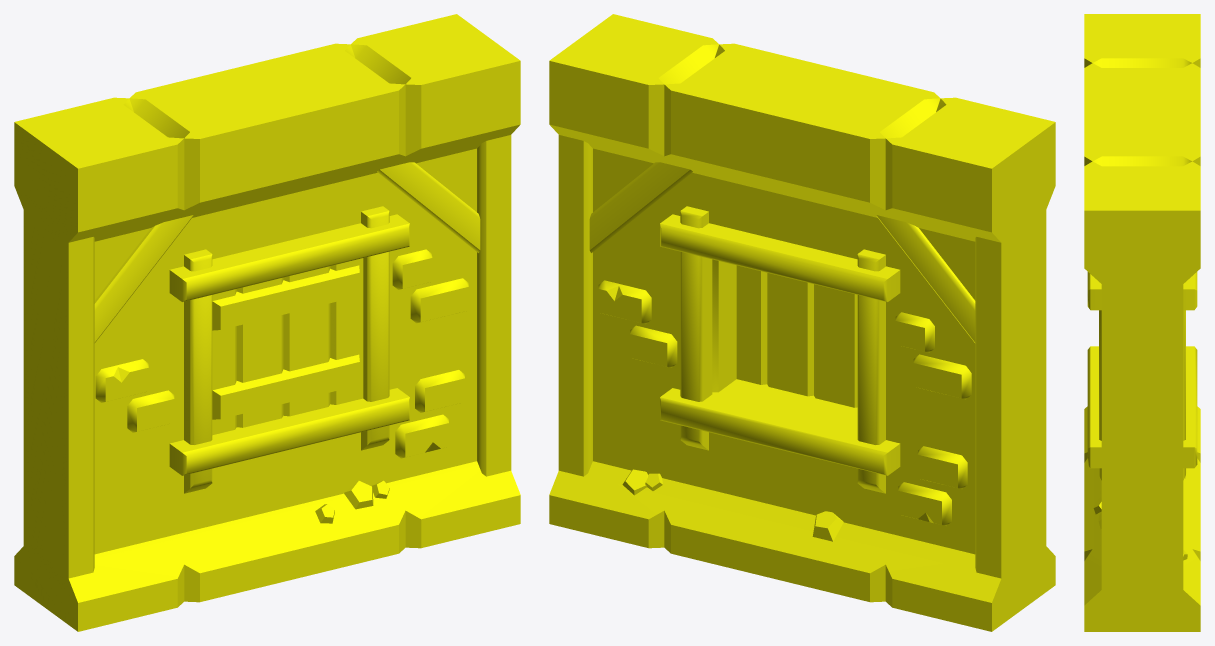
File: kaykit-wall-window-closed-scaffold.glb
3 views of the same model, side by side, from view 1: azimuth 30°, elevation 25°; view 2: azimuth 150°, elevation 25°; view 3: azimuth 270°, elevation 25° (orthographic). The views are drawn at different scales.
Visible parts, largest first — view 1: wall_window_closed_scaffold; view 2: wall_window_closed_scaffold; view 3: wall_window_closed_scaffold.
Part boxes in pixels (bbox=[...]): wall_window_closed_scaffold: bbox=[14, 14, 520, 631]; wall_window_closed_scaffold: bbox=[549, 14, 1055, 631]; wall_window_closed_scaffold: bbox=[1084, 14, 1200, 631].
Size of the model in its own units: 4 by 4 by 1.
